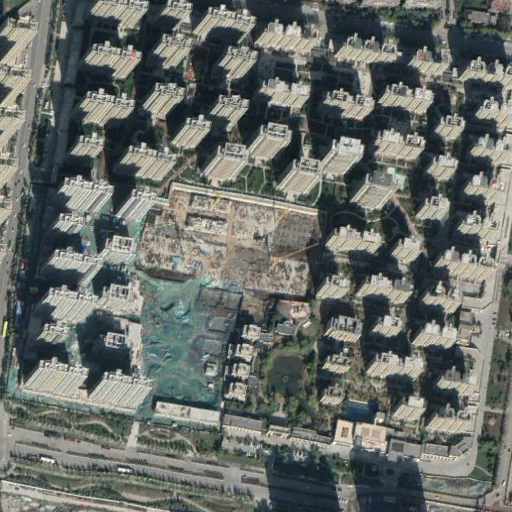cw: (135, 275, 244, 414)
